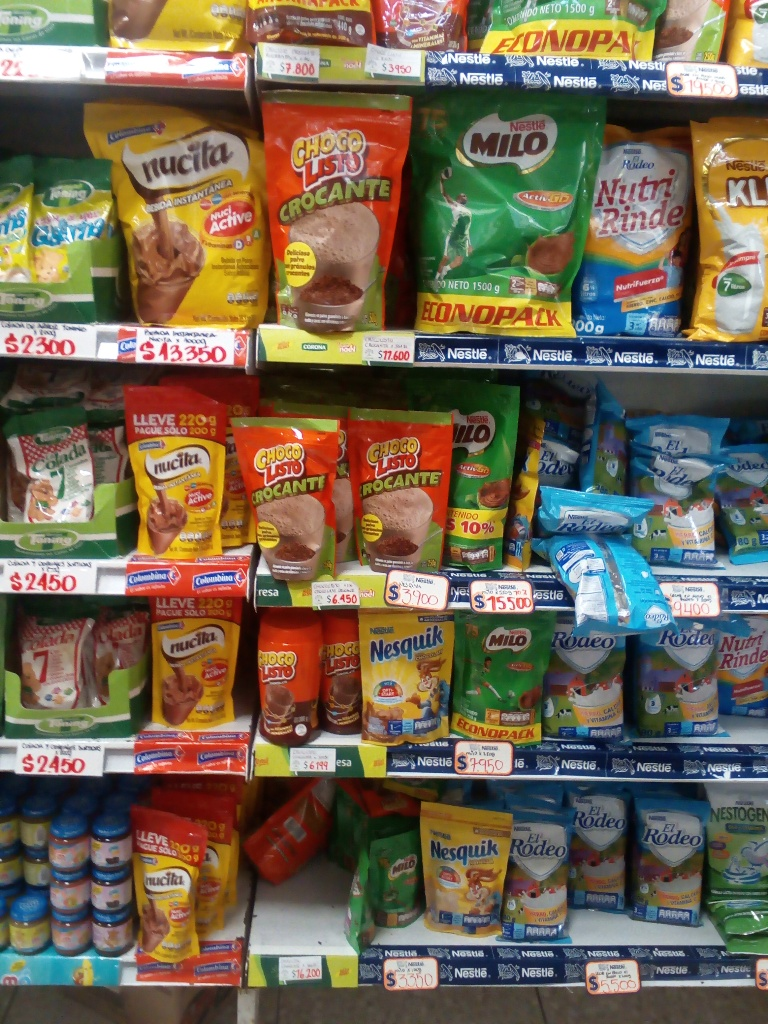COL0170203DYP10000: (348, 829, 423, 940)
COL0170303DYP20000: (364, 604, 454, 745)
COL0170306DYP20000: (414, 798, 512, 942)
